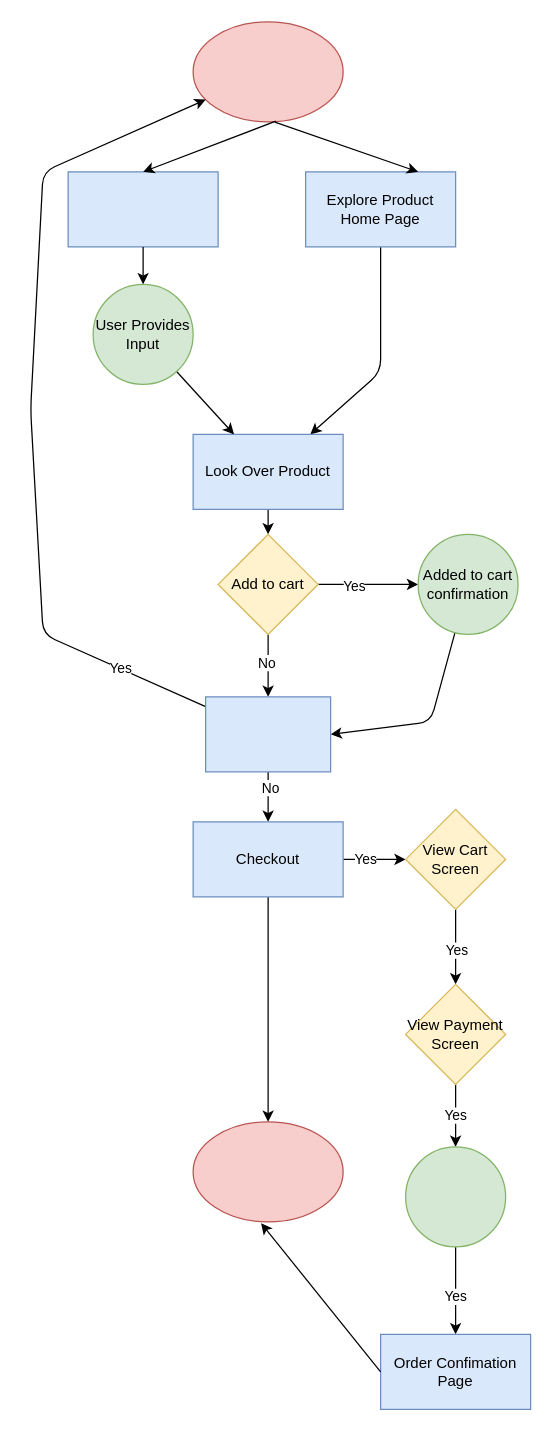
This 553x1431 diagram has some shape labels left out. The centre of each missing label's shape, as x and y in pixels:
"Continue Shopping?" belongs at point (267, 734).
"Exit Website" belongs at point (267, 1171).
"Put payment info" belongs at point (455, 1196).
"Search for Product" belongs at point (142, 209).
"User enters website/Back on Homepage" belongs at point (267, 71).
